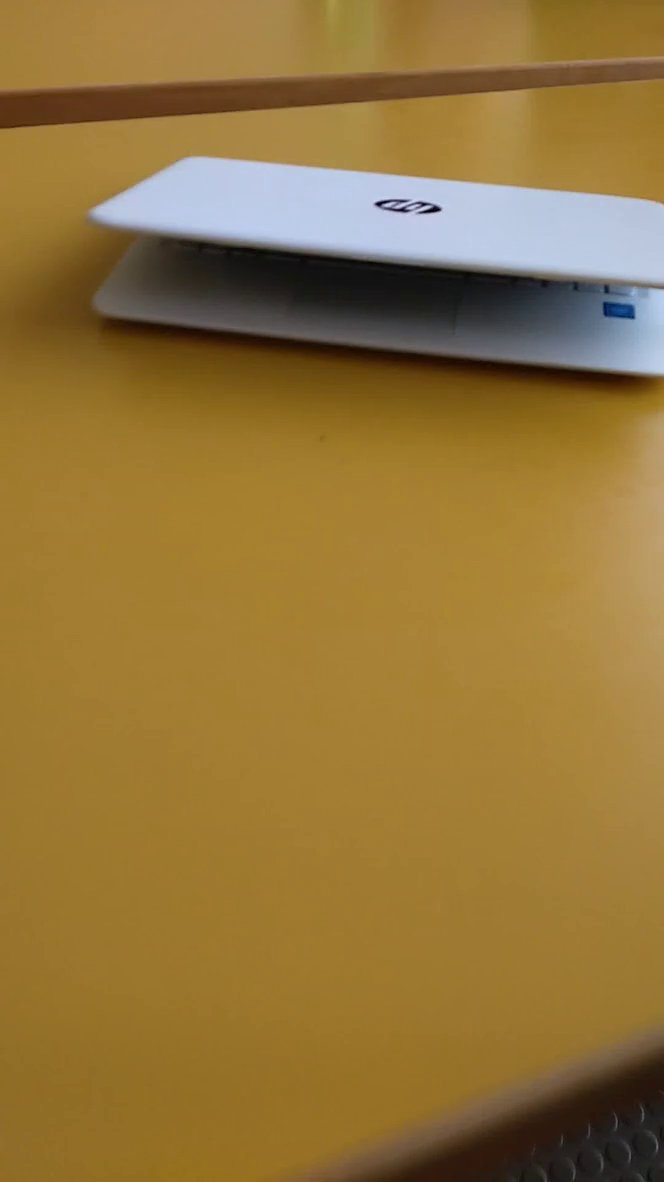laptop: (76, 129, 664, 406)
